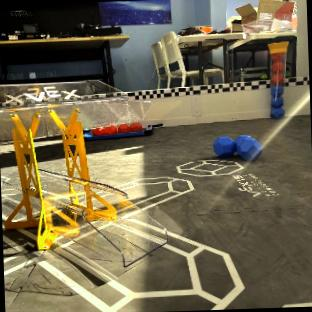V5_BLUE: (214, 135, 262, 160), (272, 85, 283, 118)
V5_RED: (269, 43, 287, 117), (92, 123, 143, 135), (272, 60, 284, 83)
